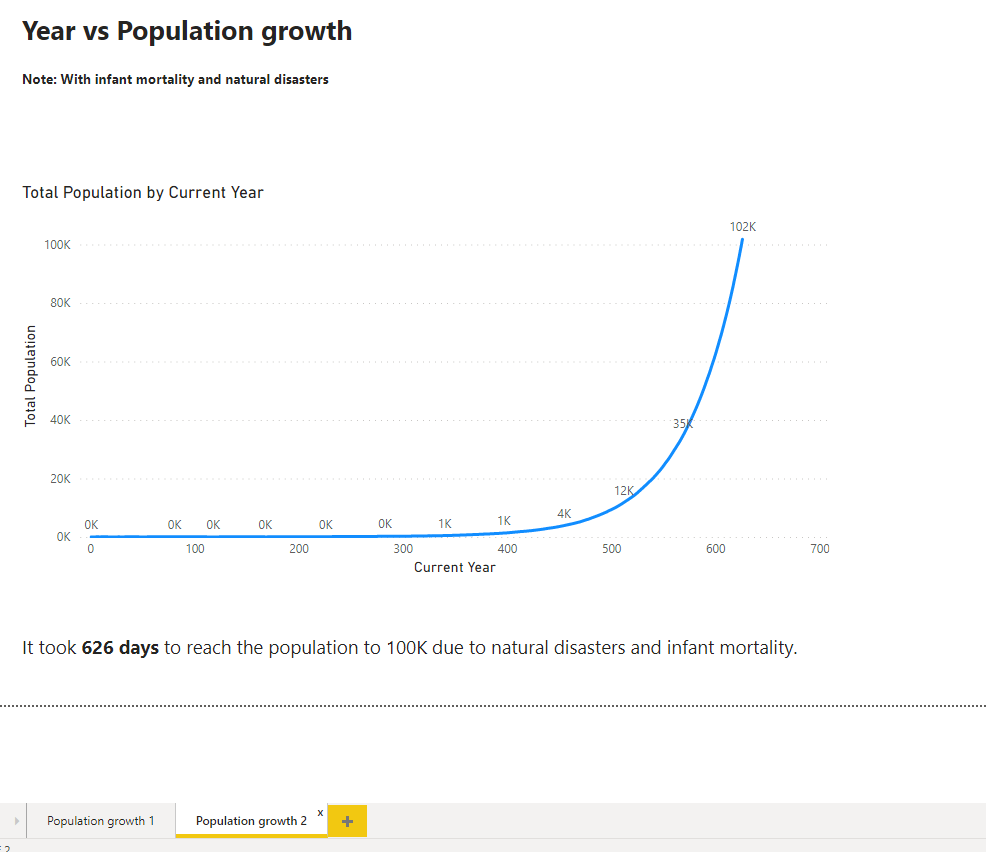

The page's visual inventory and layout, read from the dashboard file:
{"tool":"powerbi","page":{"name":"Population growth 2","canvas":[1280,720],"ordinal":1},"visuals":[{"type":"textbox","box":[29.9,22.9,815.5,65.8],"z":0},{"type":"textbox","box":[29.9,81.7,815.5,31.9],"z":1000},{"type":"lineChart","fields":{"Category":["Whole_log2.Current Year"],"Y":["Sum(Whole_log2.Total Population)"]},"box":[29.9,198.4,815.5,396.8],"z":2000},{"type":"textbox","box":[29.9,644,815.5,75.8],"z":2001}]}

Visuals, with their boxes on the page's 1280x720 design canvas (x1, y1, x2, y2). These are canvas units, not pixel positions in the 986x852 screenshot, which may show the page scaled, cropped or inside an application window:
textbox: (30, 23, 845, 89)
textbox: (30, 82, 845, 114)
lineChart - Whole_log2.Current Year x Sum(Whole_log2.Total Population): (30, 198, 845, 595)
textbox: (30, 644, 845, 720)
